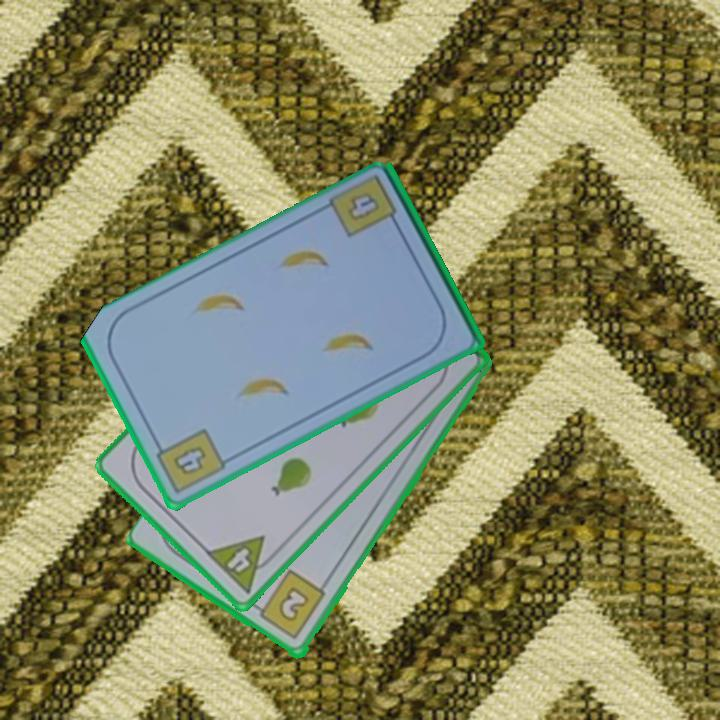2b: (249, 567, 329, 643)
4b: (150, 425, 229, 497), (343, 189, 383, 225)
4p: (201, 532, 282, 597)
